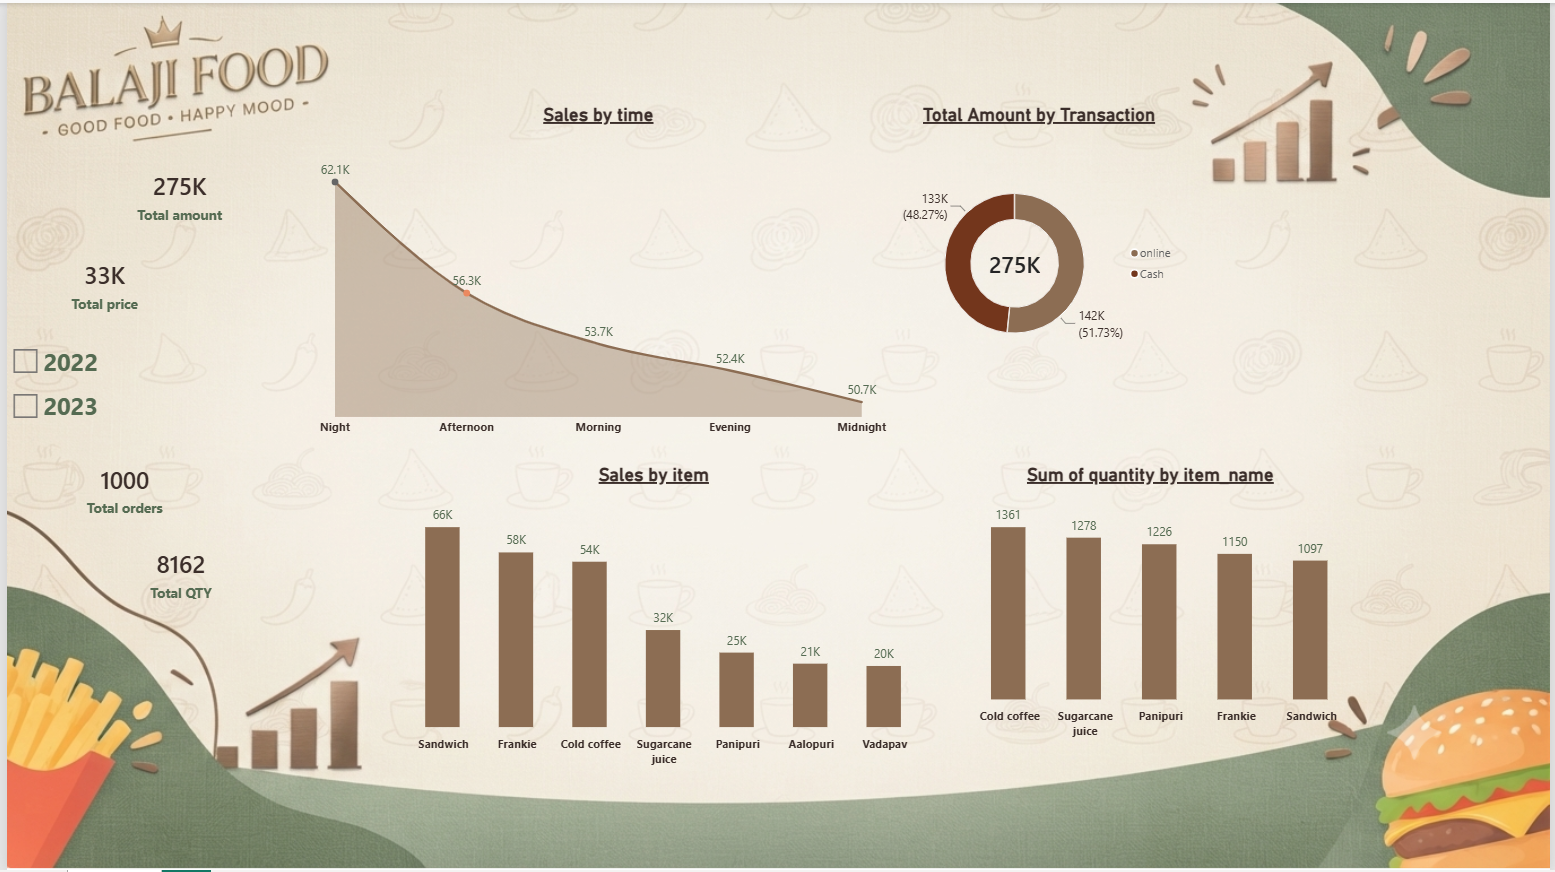

The dashboard page shown, as its layout file describes it:
{"tool":"powerbi","page":{"name":"Page 1","canvas":[1920,1080],"ordinal":0},"visuals":[{"type":"columnChart","title":"Sales by item","fields":{"Category":["Balaji Fast Food Sales.item_name"],"Y":["Sum(Balaji Fast Food Sales.transaction_amount)"]},"box":[441.6,557.4,725.7,409],"z":0},{"type":"donutChart","title":"Total Amount by Transaction","fields":{"Category":["Balaji Fast Food Sales.transaction_type"],"Y":["Sum(Balaji Fast Food Sales.transaction_amount)"]},"box":[1094.8,110.4,378.2,385.5],"z":1},{"type":"areaChart","title":"Sales by time","fields":{"Category":["Balaji Fast Food Sales.time_of_sale"],"Y":["Sum(Balaji Fast Food Sales.transaction_amount)"]},"box":[325.7,110.4,818,447],"z":2},{"type":"card","fields":{"Values":["Sum(Balaji Fast Food Sales.quantity)"]},"box":[121.2,651.5,190,117.6],"z":4},{"type":"slicer","fields":{"Values":["Balaji Fast Food Sales.date.Variation.Date Hierarchy.Year"]},"box":[0,418,144.8,139.3],"z":5},{"type":"card","fields":{"Values":["Sum(Balaji Fast Food Sales.transaction_amount)"]},"box":[119.4,171.9,190,135.7],"z":6},{"type":"card","fields":{"Values":["Sum(Balaji Fast Food Sales.item_price)"]},"box":[27.1,282.3,190,135.7],"z":7},{"type":"card","fields":{"Values":["Count(Balaji Fast Food Sales.order_id)"]},"box":[50.7,535.7,190,137.5],"z":8},{"type":"columnChart","fields":{"Category":["Balaji Fast Food Sales.item_name"],"Y":["Sum(Balaji Fast Food Sales.quantity)"]},"box":[1143.7,557.4,555.6,374.6],"z":9}]}

Visuals, with their boxes in screenshot pixels (x1, y1, x2, y2), scaled from the page's 1920x1080 canvas onto the 1555x872 screenshot:
"Sales by item" columnChart: Rect(358, 450, 945, 780)
"Total Amount by Transaction" donutChart: Rect(887, 89, 1193, 400)
"Sales by time" areaChart: Rect(264, 89, 926, 450)
card - Sum(Balaji Fast Food Sales.quantity): Rect(98, 526, 252, 621)
slicer - Balaji Fast Food Sales.date.Variation.Date Hierarchy.Year: Rect(0, 337, 117, 450)
card - Sum(Balaji Fast Food Sales.transaction_amount): Rect(97, 139, 251, 248)
card - Sum(Balaji Fast Food Sales.item_price): Rect(22, 228, 176, 337)
card - Count(Balaji Fast Food Sales.order_id): Rect(41, 433, 195, 544)
columnChart - Balaji Fast Food Sales.item_name x Sum(Balaji Fast Food Sales.quantity): Rect(926, 450, 1376, 753)
